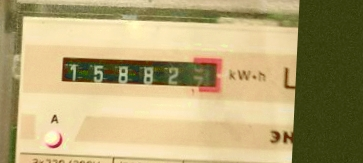1: (67, 62, 77, 80)
2: (166, 65, 179, 85)
5: (89, 63, 104, 83)
7: (190, 73, 203, 85)
8: (140, 63, 154, 85), (116, 63, 129, 84)
screen: (55, 48, 226, 96)
